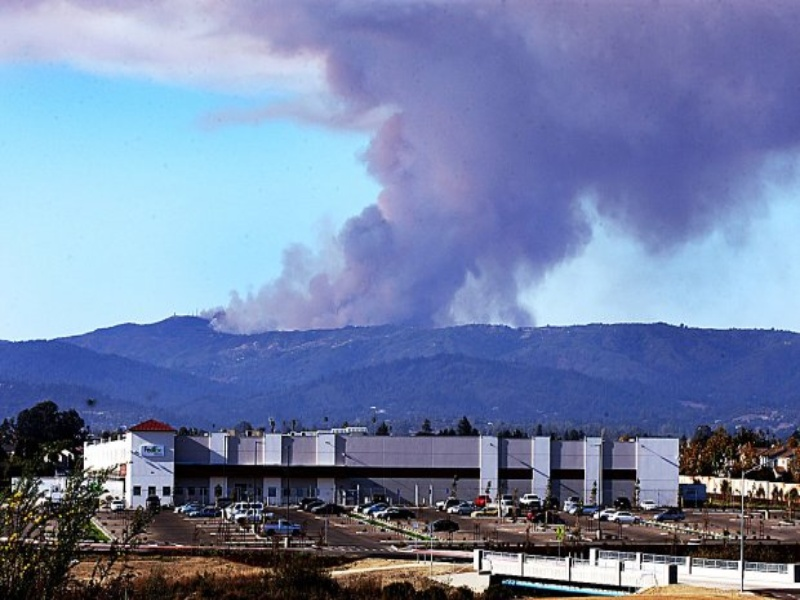smoke: (351, 1, 757, 230)
